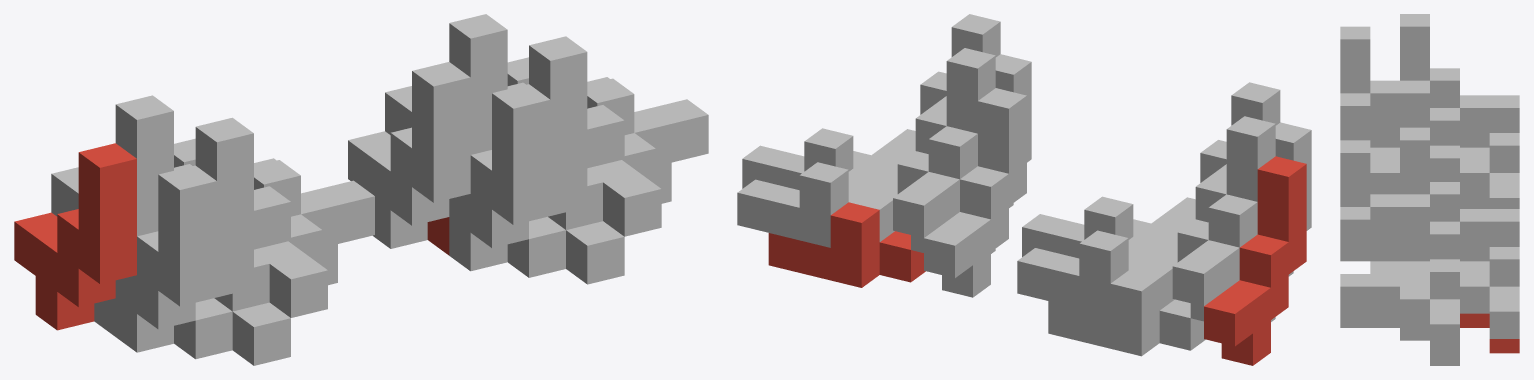
The model's file is tiling.obj.
The picture shows the model from 3 angles, left to right: view 1: azimuth 30°, elevation 25°; view 2: azimuth 150°, elevation 25°; view 3: azimuth 270°, elevation 25°; orthographic projection. The views are drawn at different scales.
Parts seen in each view (by area): view 1: copy_1_domain_1, copy_1_domain_5, copy_1_domain_6, copy_1_domain_2, copy_2_domain_8, copy_2_domain_4, copy_1_domain_8, copy_1_domain_4, copy_1_domain_3, copy_1_domain_7, copy_2_domain_6, copy_2_domain_2 (+4 smaller); view 2: copy_1_domain_1, copy_1_domain_5, copy_1_domain_3, copy_1_domain_7, copy_2_domain_3, copy_2_domain_7, copy_2_domain_1, copy_2_domain_5, copy_2_domain_4, copy_2_domain_8, copy_1_domain_4, copy_1_domain_8 (+4 smaller); view 3: copy_1_domain_8, copy_1_domain_7, copy_2_domain_8, copy_1_domain_3, copy_1_domain_4, copy_2_domain_7, copy_2_domain_3, copy_2_domain_4, copy_2_domain_6, copy_2_domain_5, copy_1_domain_6, copy_2_domain_1 (+1 smaller).
Part boxes in pixels (<box>): copy_1_domain_1: <box>14,143,136,330</box>; copy_1_domain_5: <box>348,62,470,248</box>; copy_1_domain_6: <box>449,84,587,271</box>; copy_1_domain_2: <box>115,165,253,352</box>; copy_2_domain_8: <box>548,78,708,236</box>; copy_2_domain_4: <box>214,160,374,317</box>; copy_1_domain_8: <box>529,36,624,177</box>; copy_1_domain_4: <box>195,117,290,258</box>; copy_1_domain_3: <box>51,95,192,236</box>; copy_1_domain_7: <box>385,14,525,154</box>; copy_2_domain_6: <box>507,162,671,284</box>; copy_2_domain_2: <box>174,244,337,365</box>; copy_1_domain_1: <box>1204,156,1306,365</box>; copy_1_domain_5: <box>924,88,1026,297</box>; copy_1_domain_3: <box>1172,116,1275,321</box>; copy_1_domain_7: <box>893,48,995,252</box>; copy_2_domain_3: <box>1017,230,1177,315</box>; copy_2_domain_7: <box>737,162,897,247</box>; copy_2_domain_1: <box>1048,270,1205,356</box>; copy_2_domain_5: <box>768,202,925,287</box>; copy_2_domain_4: <box>1022,196,1195,258</box>; copy_2_domain_8: <box>742,128,915,190</box>; copy_1_domain_4: <box>1177,82,1280,262</box>; copy_1_domain_8: <box>897,14,1000,193</box>; copy_1_domain_8: <box>1340,140,1459,261</box>; copy_1_domain_7: <box>1400,127,1519,261</box>; copy_2_domain_8: <box>1340,259,1459,351</box>; copy_1_domain_3: <box>1400,14,1519,147</box>; copy_1_domain_4: <box>1340,26,1459,147</box>; copy_2_domain_7: <box>1400,247,1519,338</box>; copy_2_domain_3: <box>1460,133,1519,208</box>; copy_2_domain_4: <box>1370,145,1459,194</box>; copy_2_domain_6: <box>1340,313,1459,365</box>; copy_2_domain_5: <box>1460,313,1519,353</box>; copy_1_domain_6: <box>1340,247,1370,261</box>; copy_2_domain_1: <box>1460,200,1489,208</box>.
Bounding box in the file's own units: 17 × 6 × 6.
